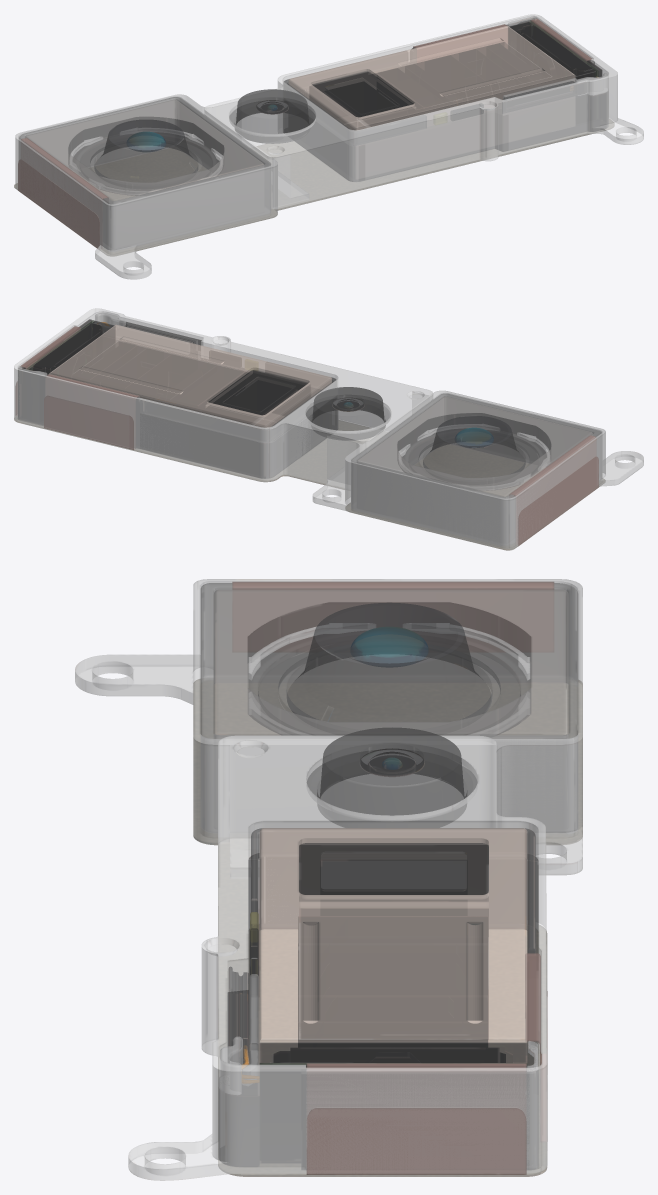
The model's file is PixelCamera.glb.
3 renders of one model, top to bottom at view 1: azimuth 30°, elevation 25°; view 2: azimuth 150°, elevation 25°; view 3: azimuth 270°, elevation 25°, orthographic. The views are drawn at different scales.
Visible parts, largest first — view 1: 立方体.047; view 2: 立方体.047; view 3: 立方体.047.
Part boxes in pixels (bbox=[...]): 立方体.047: bbox=[14, 14, 643, 279]; 立方体.047: bbox=[14, 308, 643, 550]; 立方体.047: bbox=[75, 579, 582, 1180].
Size of the model in its own units: 8.33 by 0.9625 by 3.46.
1 material, 1 textured.
